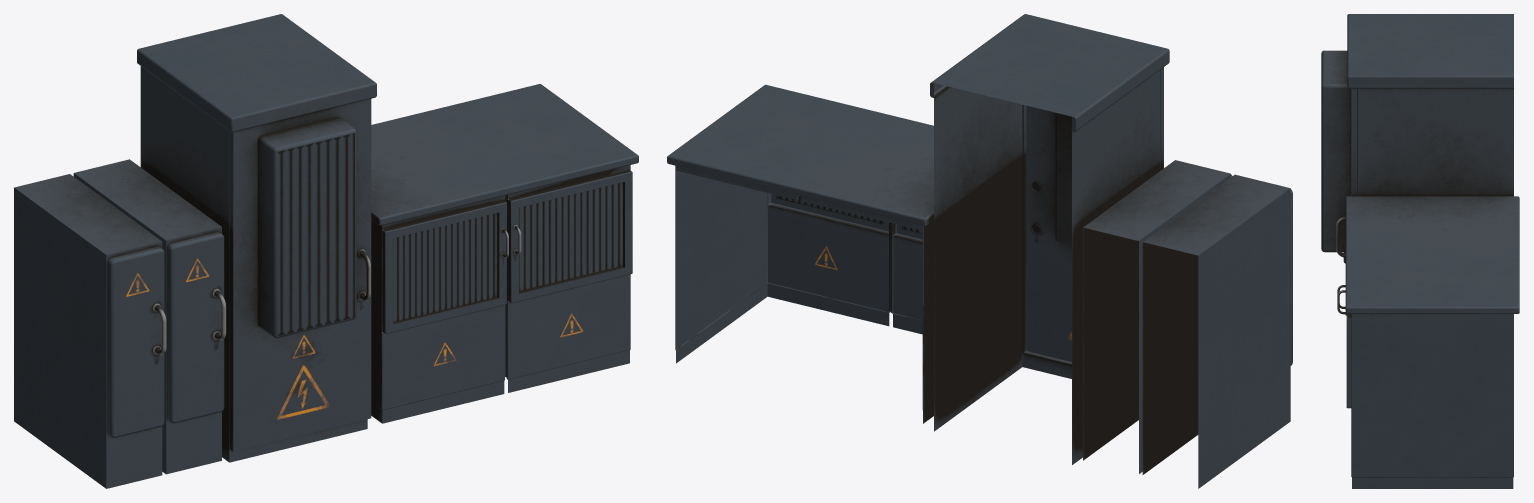
The model's file is box_electricity_metallic_-_15mb.glb.
The picture shows the model from 3 angles, left to right: view 1: azimuth 30°, elevation 25°; view 2: azimuth 150°, elevation 25°; view 3: azimuth 270°, elevation 25°; orthographic projection. The views are drawn at different scales.
Parts seen in each view (by area): view 1: Sweep_3; view 2: Sweep_3; view 3: Sweep_3.
Boxes of the visible parts, box(x1,y1,x2,y2) form: Sweep_3: box(14, 14, 638, 488); Sweep_3: box(667, 14, 1292, 488); Sweep_3: box(1321, 14, 1519, 488).
Bounding box in the file's own units: 3.93 × 2.48 × 1.45.
1 material, 1 textured.
